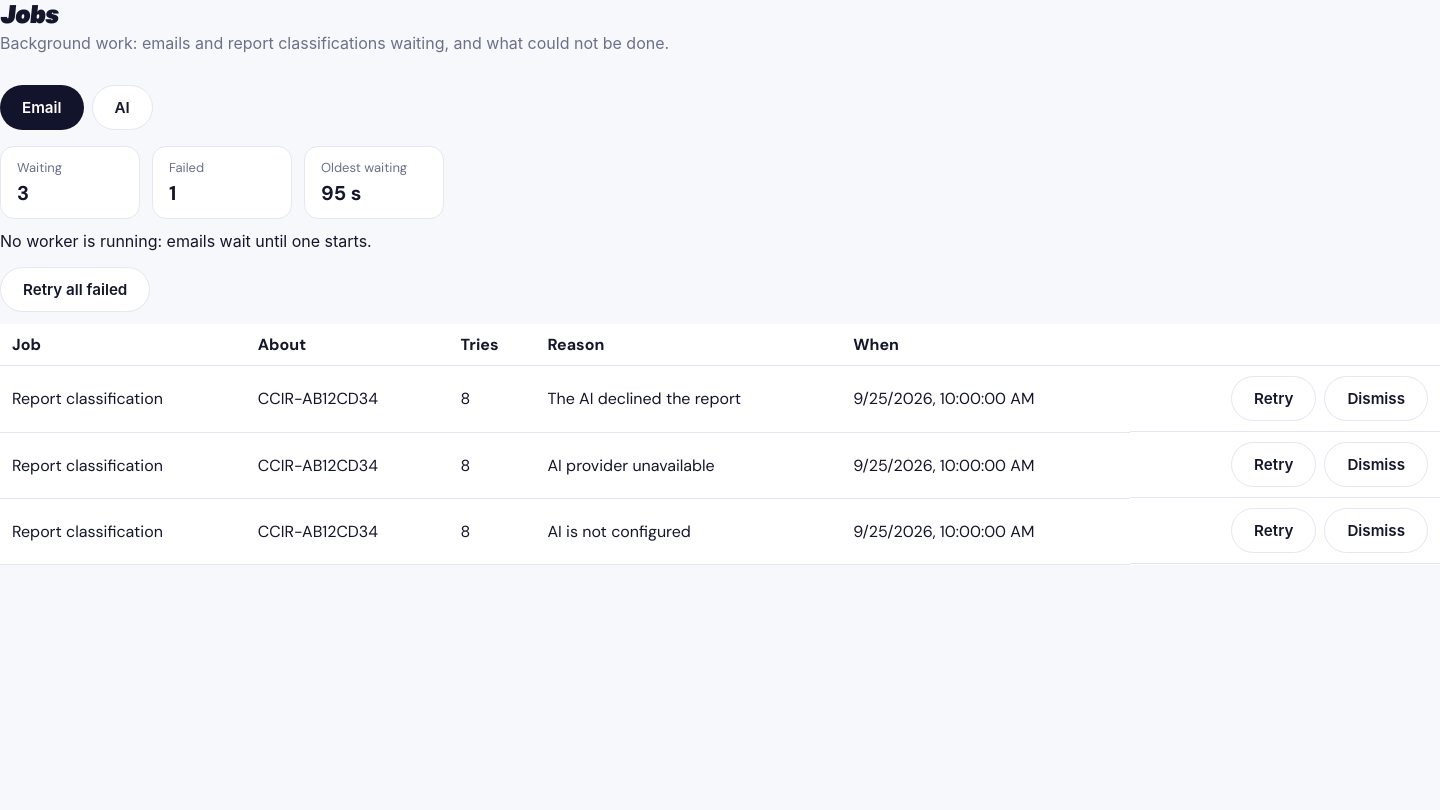
Test: JobsPage › uses AI failure wording and an AI dismissal message
This screenshot has width=1440, height=810.
Click the tab "AI" at (122, 108), box [92, 85, 153, 130]
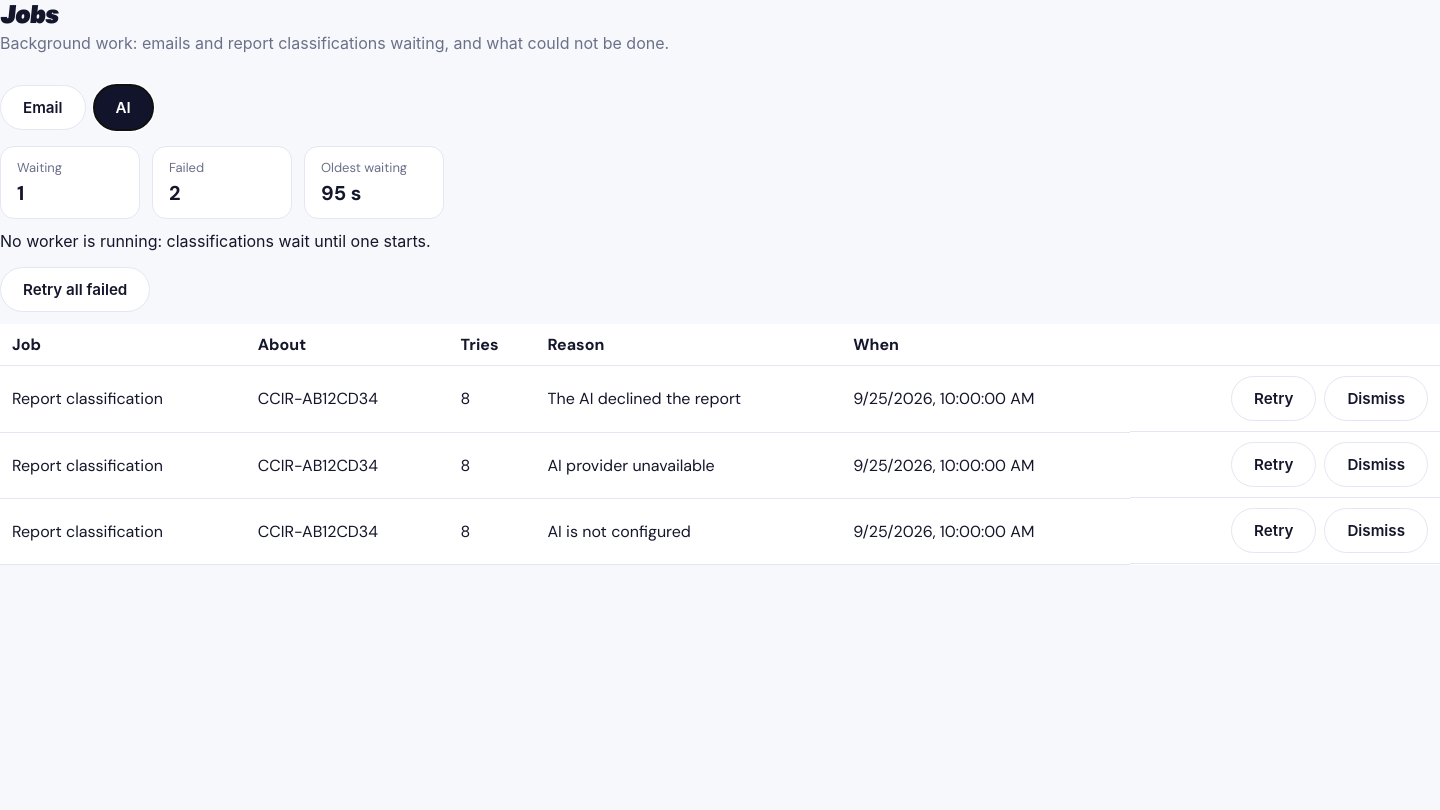
Expected: the text "AI provider unavailable" is shown, [536, 432, 841, 498]
Now the text "No worker is running: classifications wait until one starts." is shown, box [0, 231, 431, 251]
Click the button "Dismiss" in the row of "AI provider unavailable" at (1376, 464), box [1324, 442, 1428, 487]
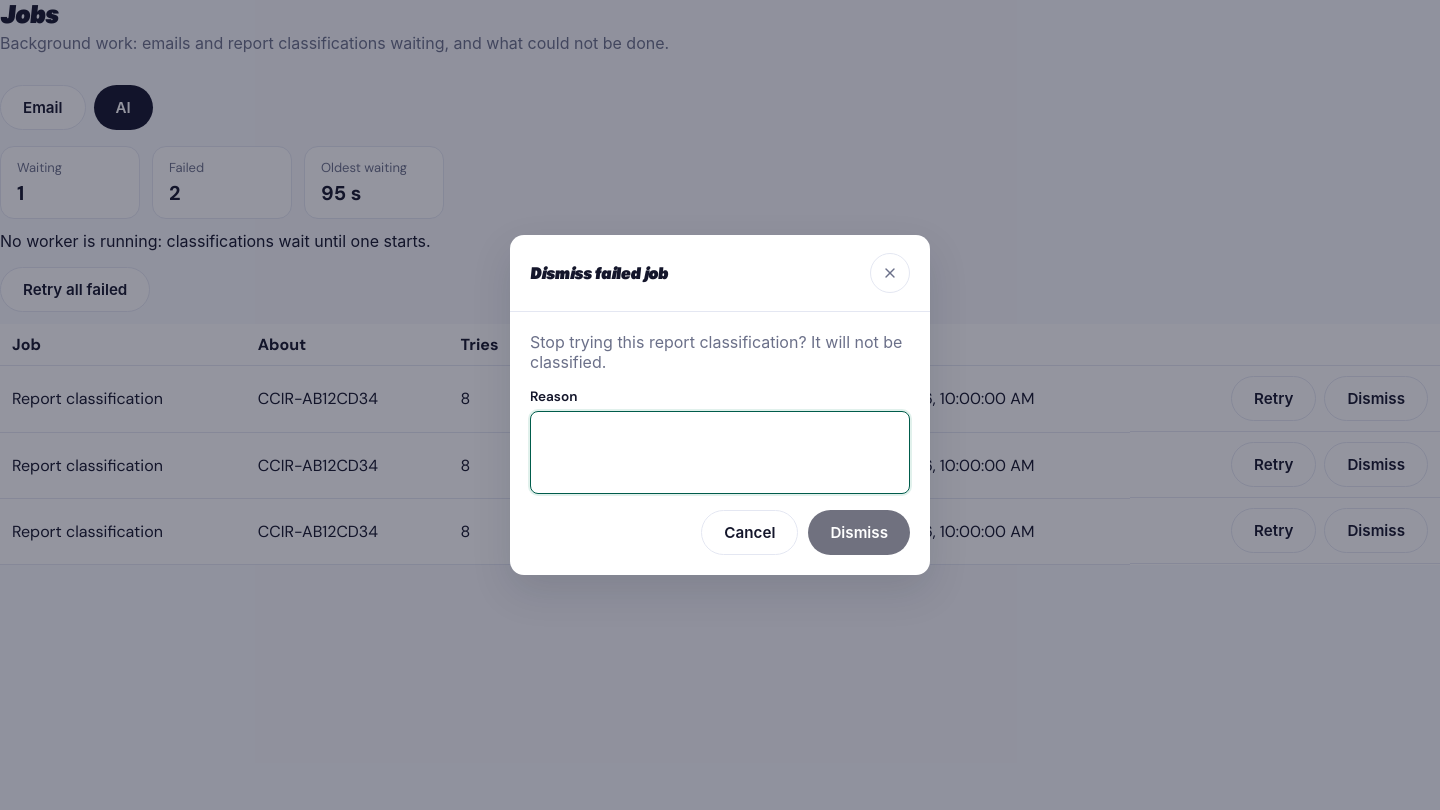
Now the text "Stop trying this report classification? It will not be classified." is shown, box [530, 332, 910, 372]
